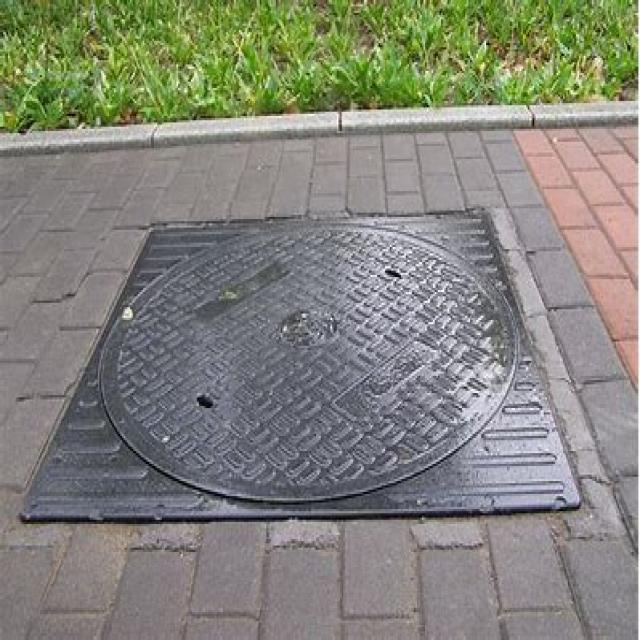manhole: (22, 211, 578, 521)
